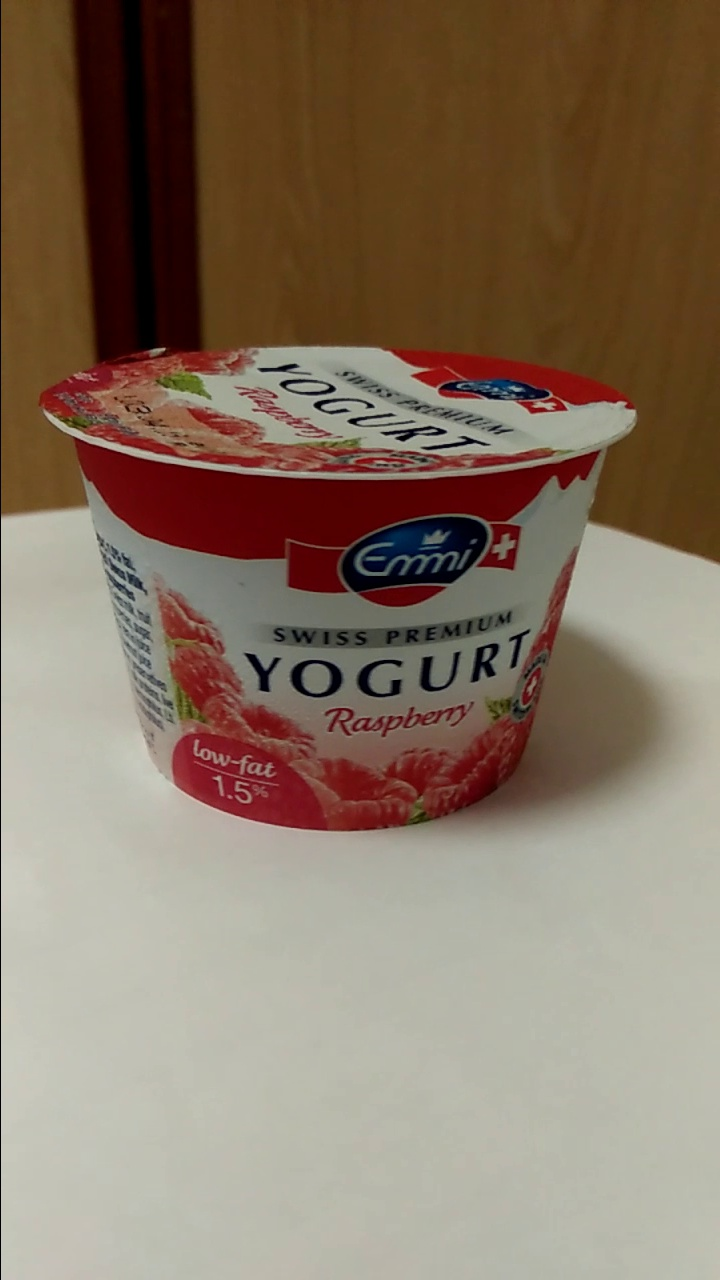yogurt: (45, 347, 643, 837)
